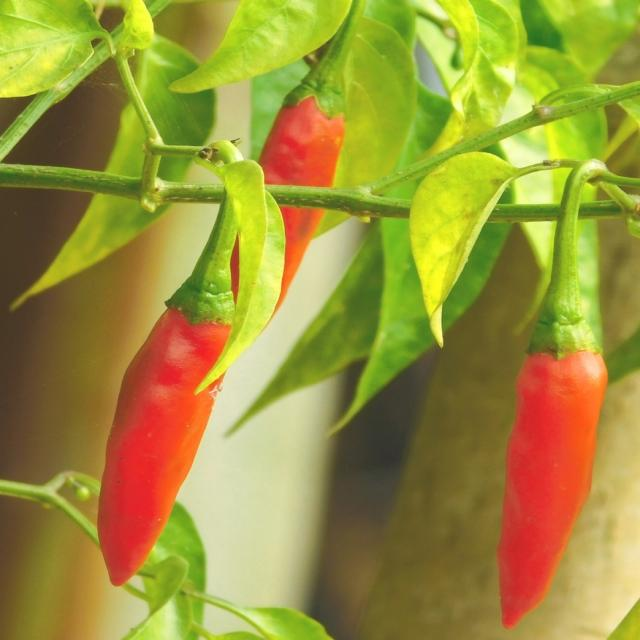Ripe: (97, 308, 230, 586), (497, 351, 606, 629), (258, 94, 349, 273)
